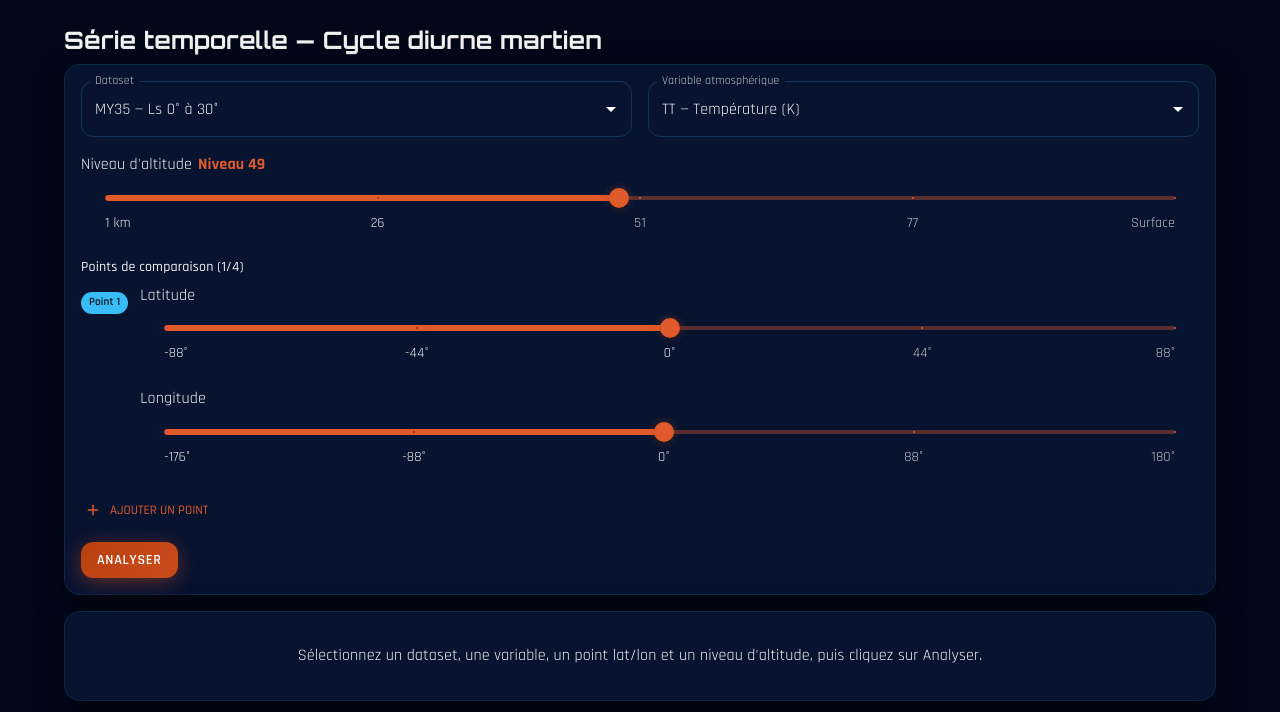
Serie temporelle — points compares › affiche le message du backend en cas d echec
This screenshot has width=1280, height=712.
Click the button "Analyser" at (129, 560), box 81,542 -> 178,578
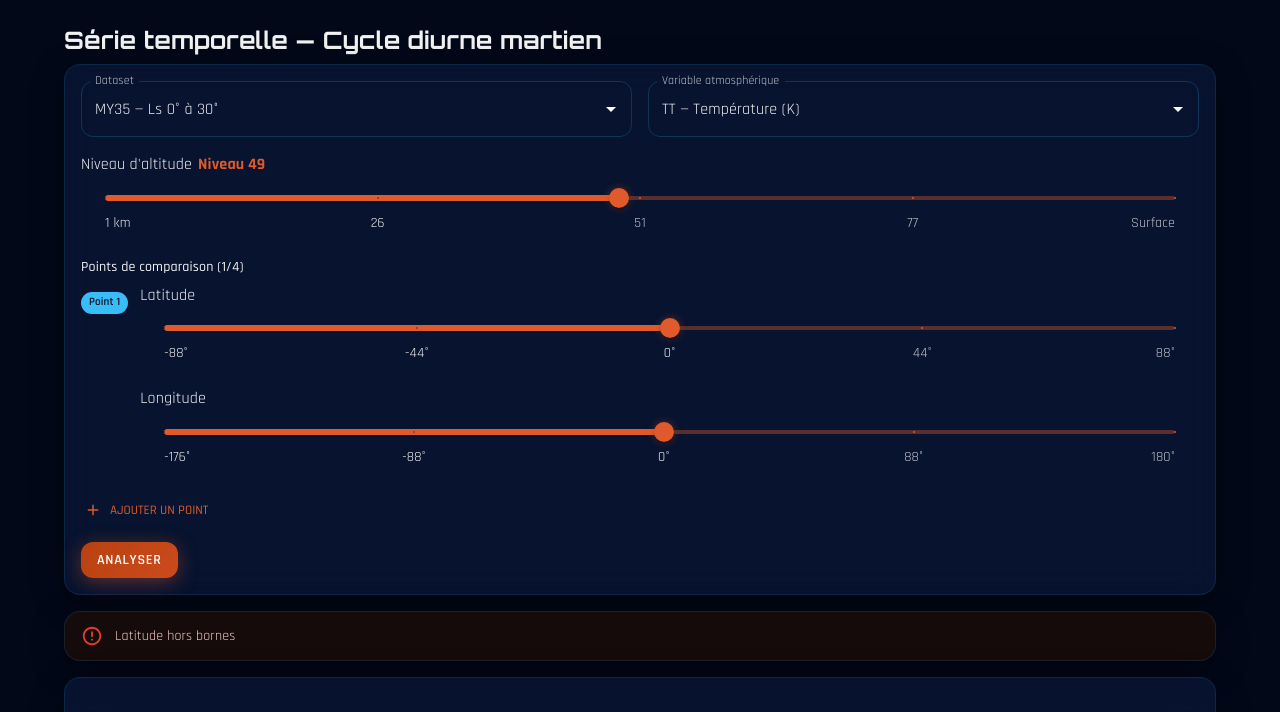
Now the text "Latitude hors bornes" is shown, box 115,627 -> 235,645
